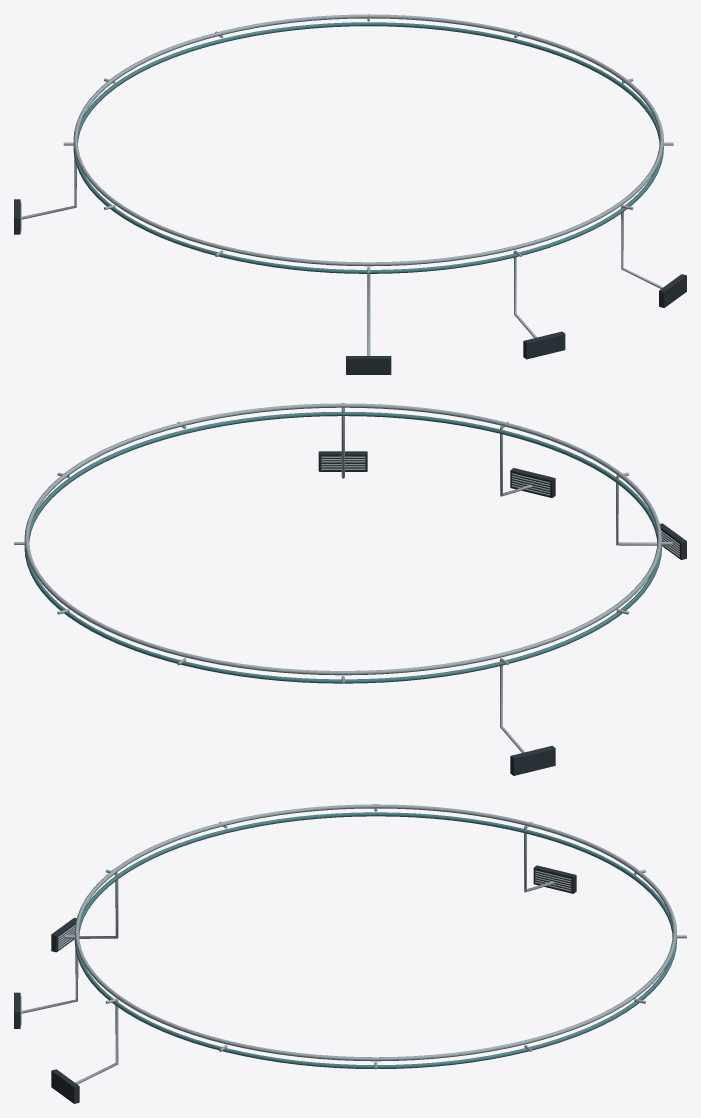
File: RD_C04_Services.fbx
3 views of the same model, one above another, from view 1: azimuth 30°, elevation 25°; view 2: azimuth 150°, elevation 25°; view 3: azimuth 270°, elevation 25° (orthographic). The views are drawn at different scales.
Parts seen in each view (by area): view 1: RD_C04_Services; view 2: RD_C04_Services; view 3: RD_C04_Services.
Boxes of the visible parts, x1,y1,x2,y2 form: RD_C04_Services: (14, 14, 686, 374); RD_C04_Services: (14, 403, 686, 775); RD_C04_Services: (14, 804, 686, 1103).
Bounding box in the file's own units: 949 × 146 × 1004.
